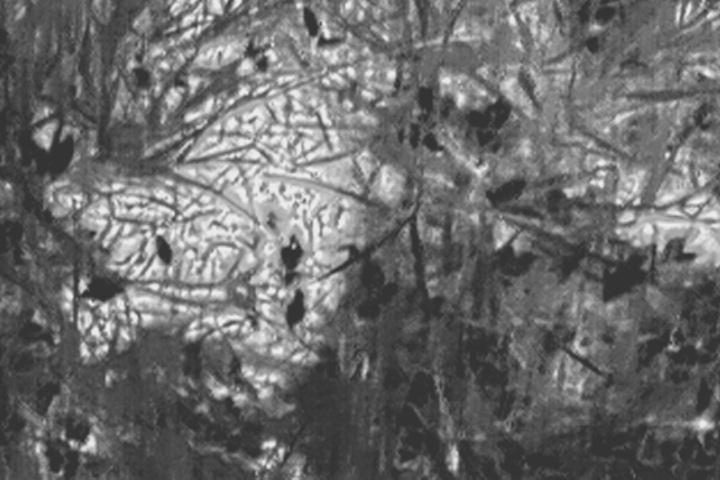landmine: (147, 122, 364, 334)
